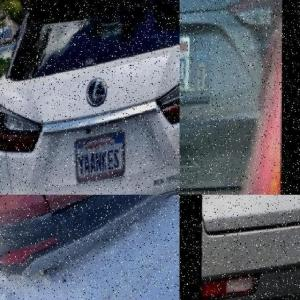Plate: (75, 136, 132, 180), (180, 34, 214, 96)
